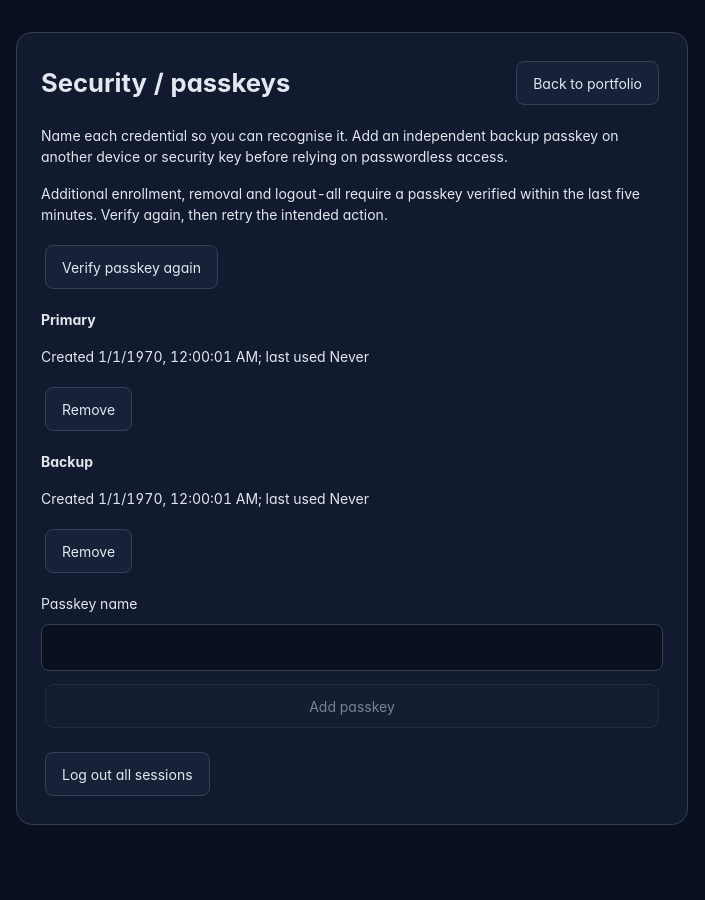
it: requires explicit reauthentication and retry for a protected change, then confirms removal and guards the last key
Click the button with aria-label "Remove Primary" at (89, 409), box [45, 387, 132, 431]
(page scrolled)
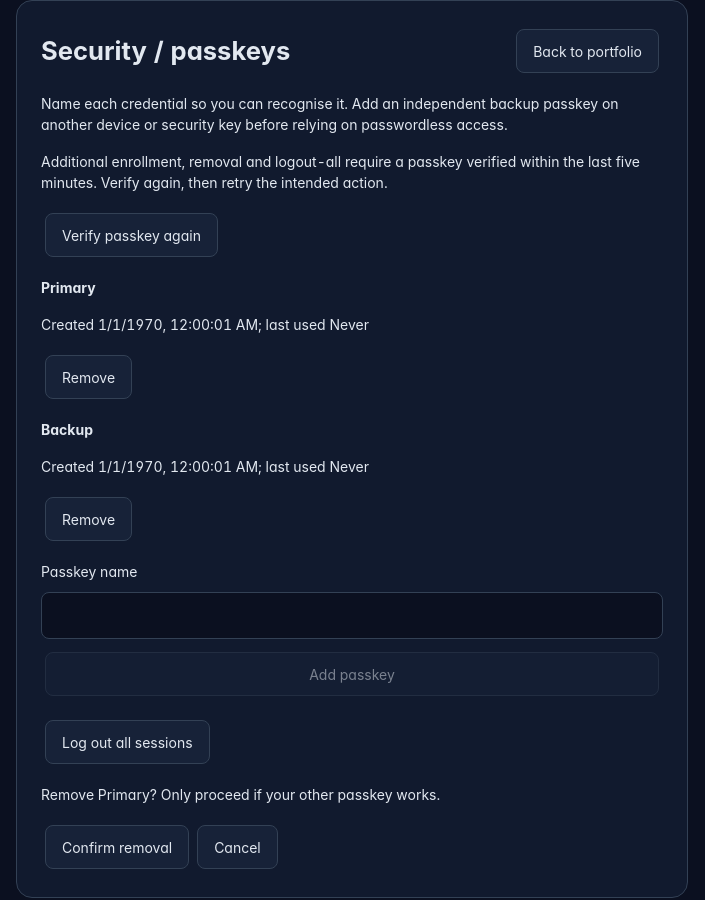
Click the button "Confirm removal" at (117, 847), box [45, 825, 189, 869]
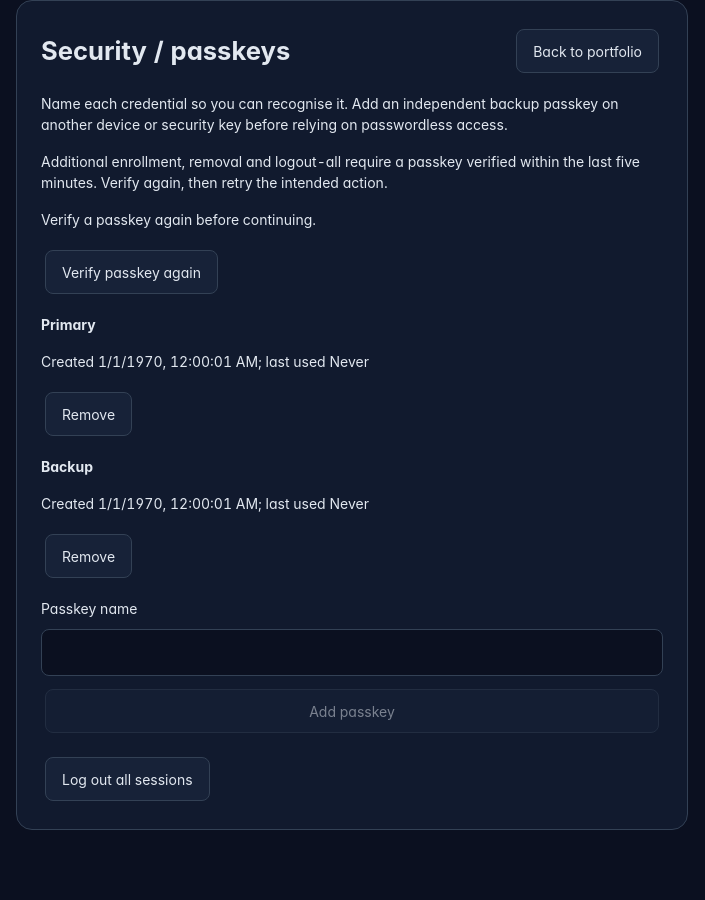
Result: the message shows "Verify a passkey again" at [41, 211, 316, 228]
Click the button "Verify passkey again" at (131, 272), box [45, 250, 218, 294]
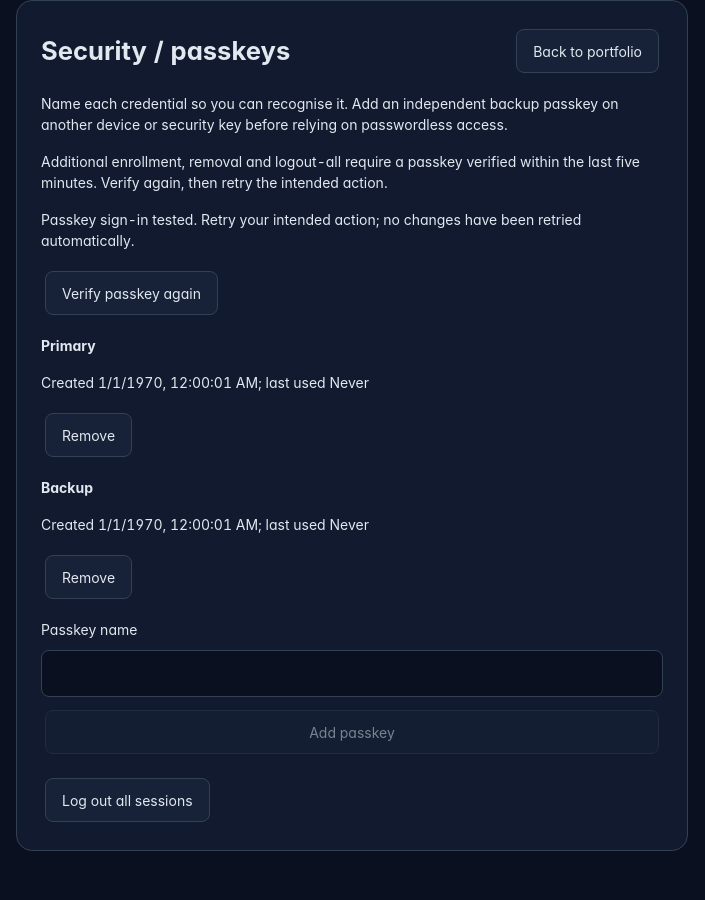
Result: the message shows "sign-in tested" at [41, 211, 581, 249]
Click the button with aria-label "Remove Primary" at (89, 435), box [45, 413, 132, 457]
(page scrolled)
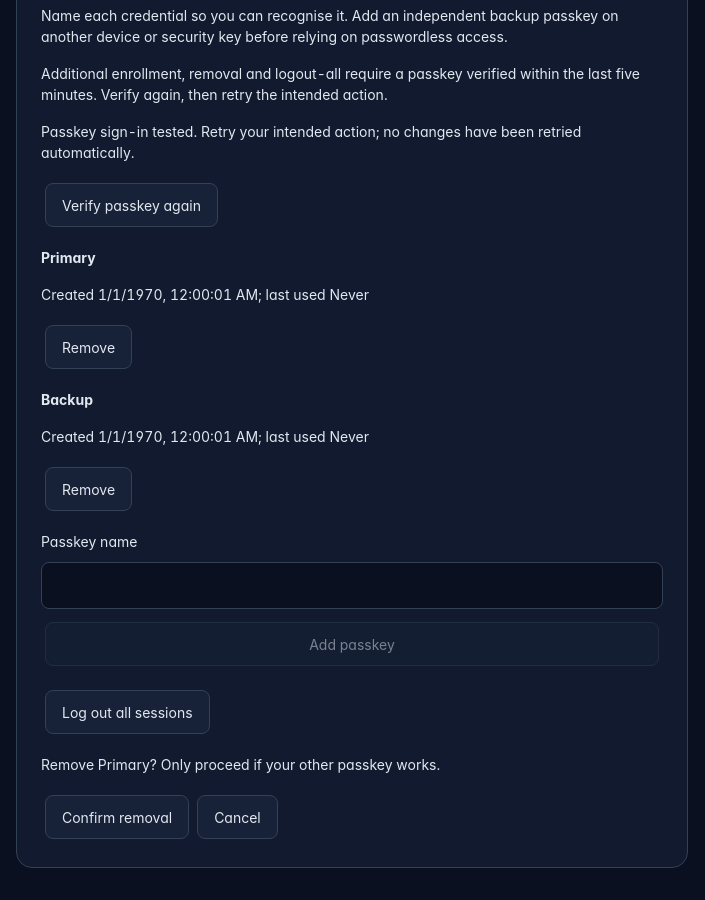
Click the button "Confirm removal" at (117, 817), box [45, 795, 189, 839]
(page scrolled)
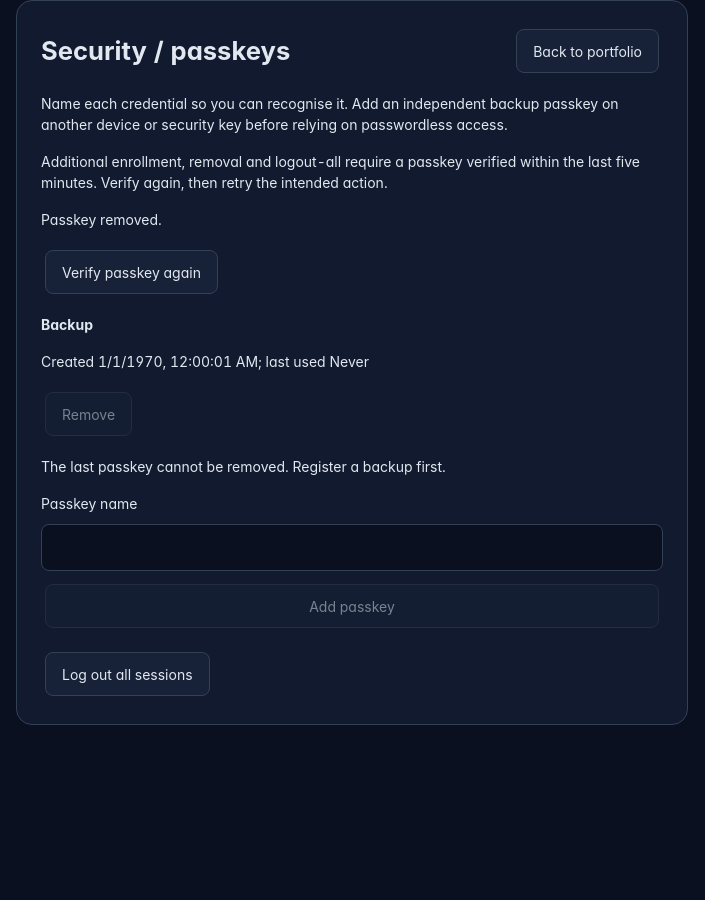
Result: the text "Primary" is gone
Result: the button with aria-label "Remove Backup" is disabled at [45, 392, 132, 436]
Result: the text "The last passkey cannot be removed. Register a backup first." is shown at [41, 458, 446, 475]
